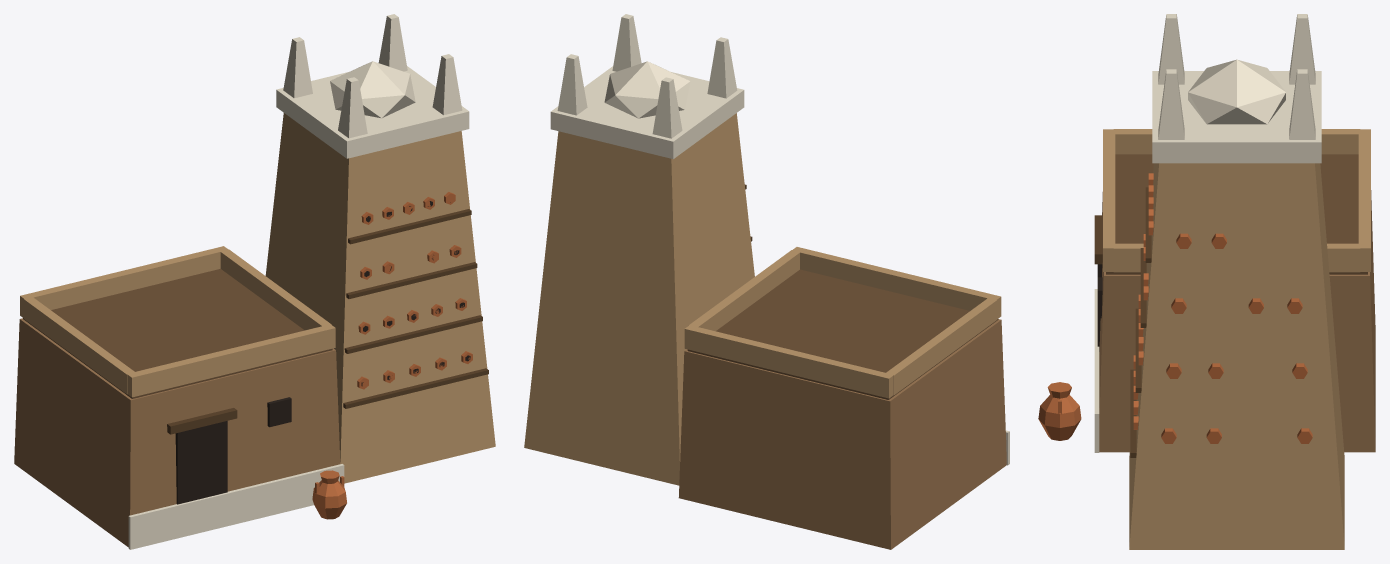
The model's file is desert_mudhouse_b.glb.
3 renders of one model, left to right at view 1: azimuth 30°, elevation 25°; view 2: azimuth 150°, elevation 25°; view 3: azimuth 270°, elevation 25°, orthographic. The views are drawn at different scales.
Visible parts, largest first — view 1: desert_mudhouse_b; view 2: desert_mudhouse_b; view 3: desert_mudhouse_b.
Part boxes in pixels (x1=…): desert_mudhouse_b: x1=14, y1=14, x2=495, y2=549; desert_mudhouse_b: x1=524, y1=14, x2=1009, y2=549; desert_mudhouse_b: x1=1038, y1=14, x2=1375, y2=549.
Bounding box in the file's own units: 6.82 × 6.6 × 4.38.
